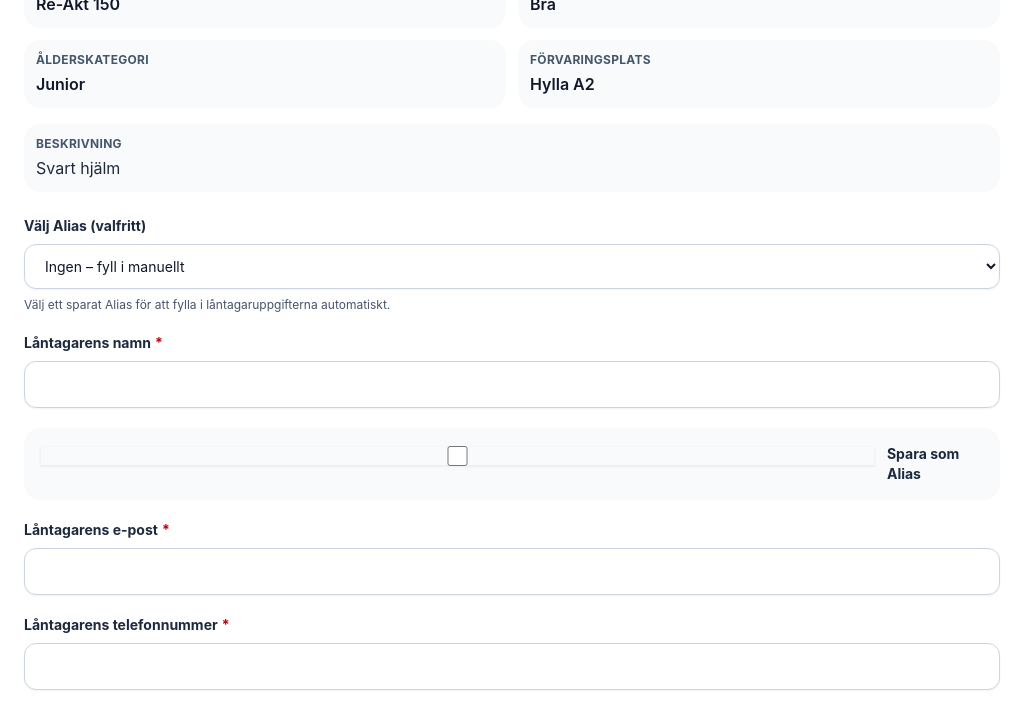
LoanForm › shows duplicate alias error at alias name field
(page scrolled)
Type "Patrik Hading" into the field labelled "Låntagarens namn*" at {"x": 512, "y": 384}, box [24, 361, 1000, 408]
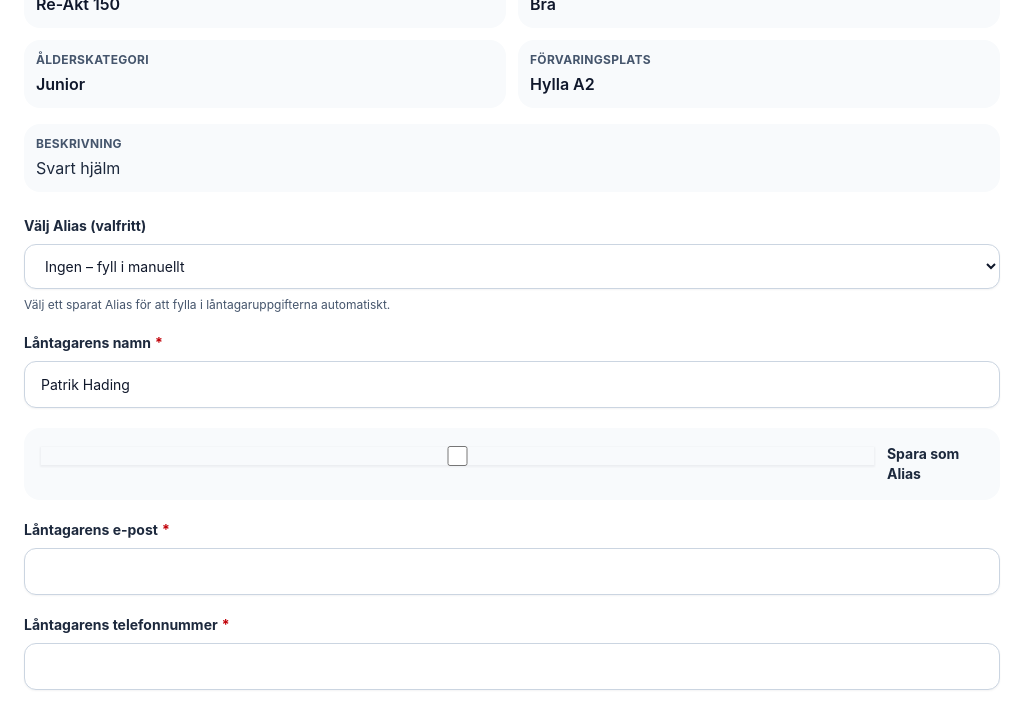
Type "patrik@example.com" into the field labelled "Låntagarens e-post*" at {"x": 512, "y": 571}, box [24, 548, 1000, 595]
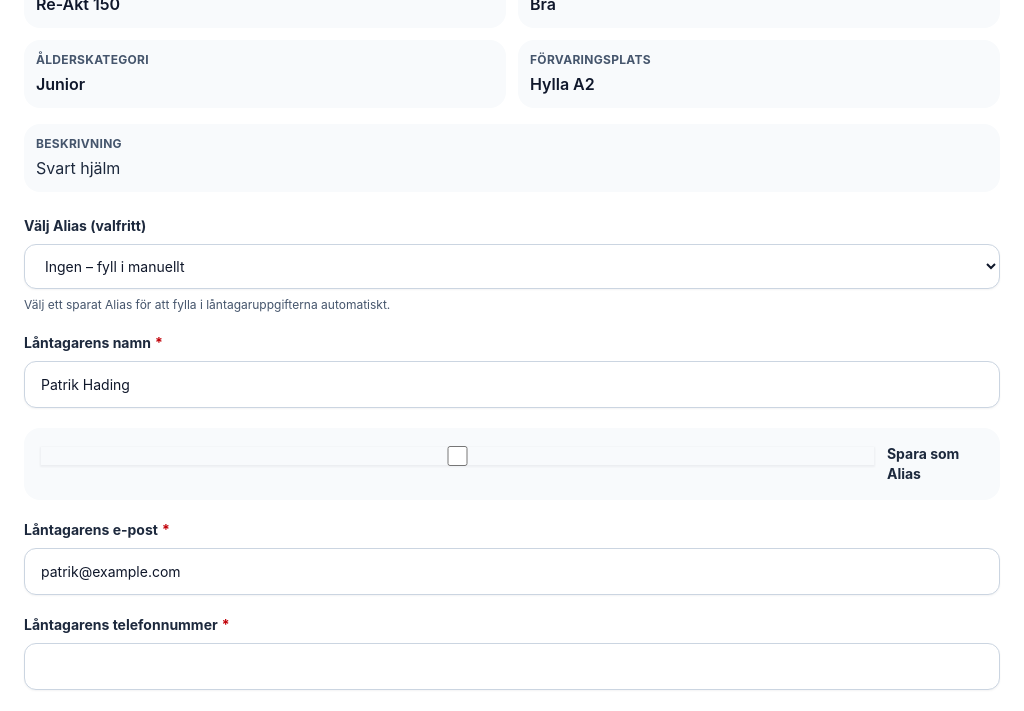
Type "+46701234567" into the field labelled "Låntagarens telefonnummer*" at {"x": 512, "y": 666}, box [24, 643, 1000, 690]
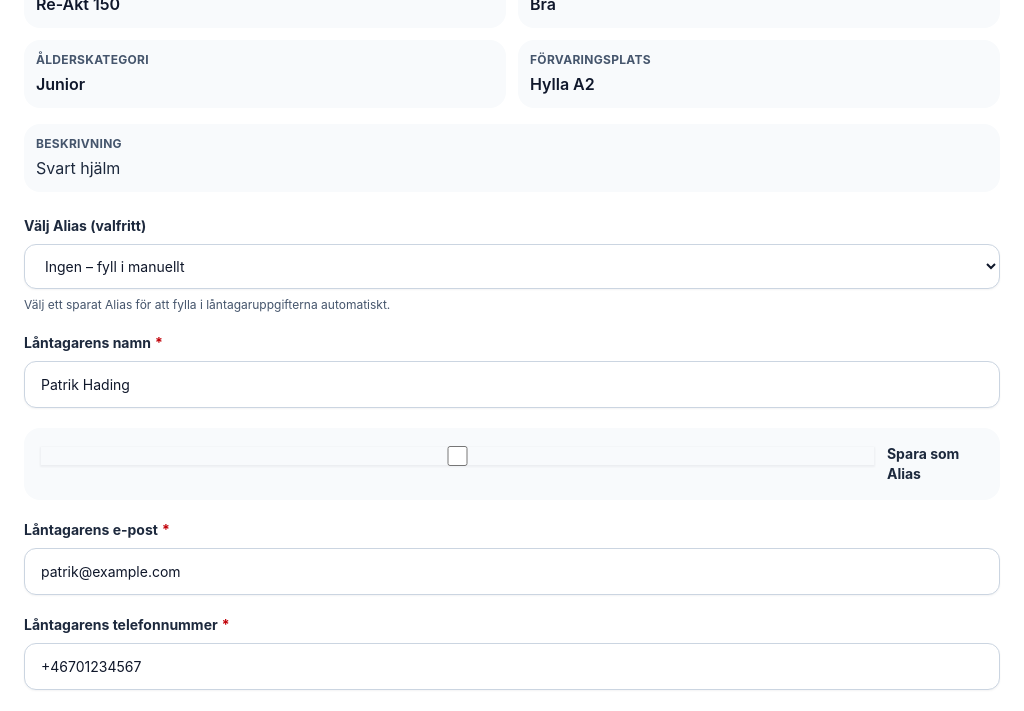
Click the checkbox labelled "Spara som Alias" at {"x": 457, "y": 456}, box [40, 446, 875, 466]
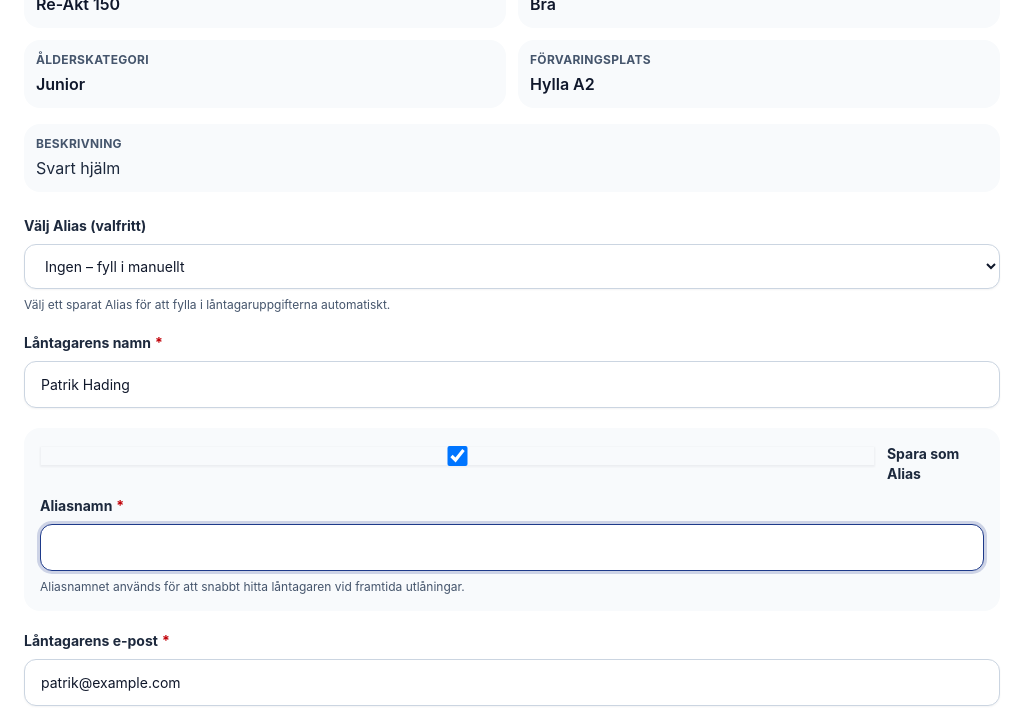
Type "Lagledaren" into the field labelled "Aliasnamn*" at {"x": 512, "y": 547}, box [40, 524, 984, 571]
(page scrolled)
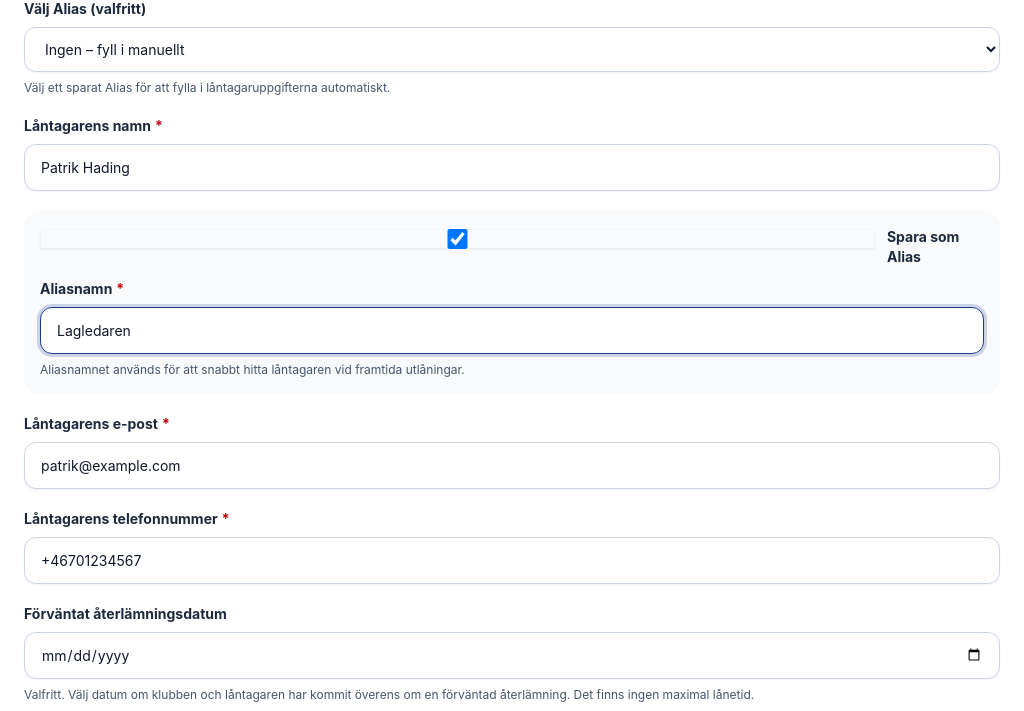
Submit the form named "registrera lån"
(page scrolled)
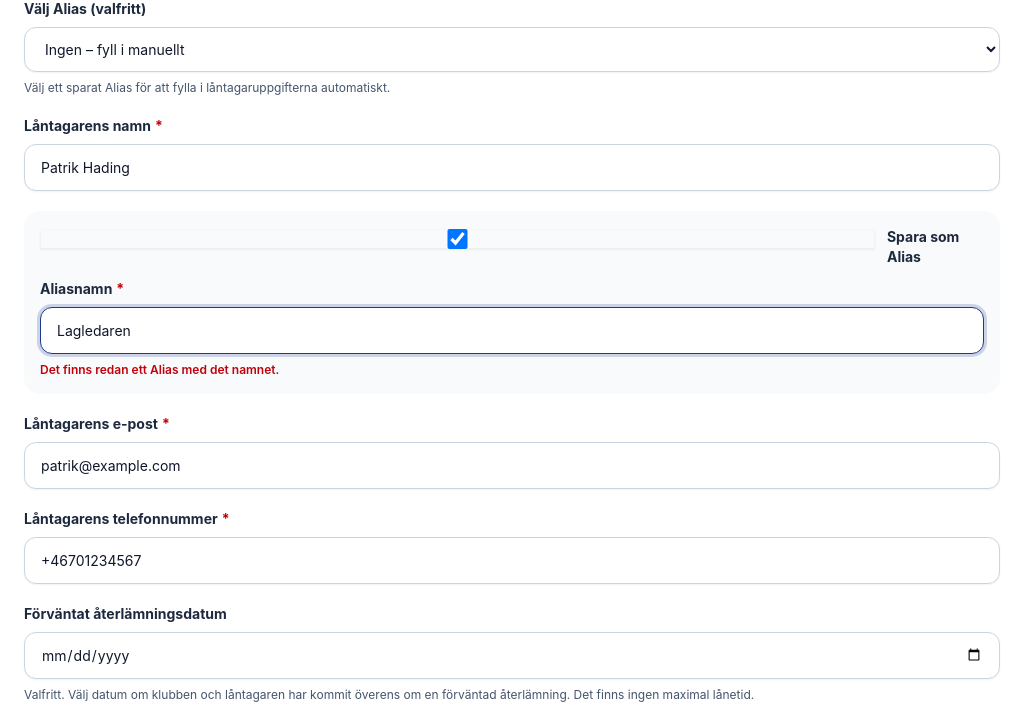
Check: the text "Det finns redan ett Alias med det namnet." is shown, box [40, 362, 279, 376]
